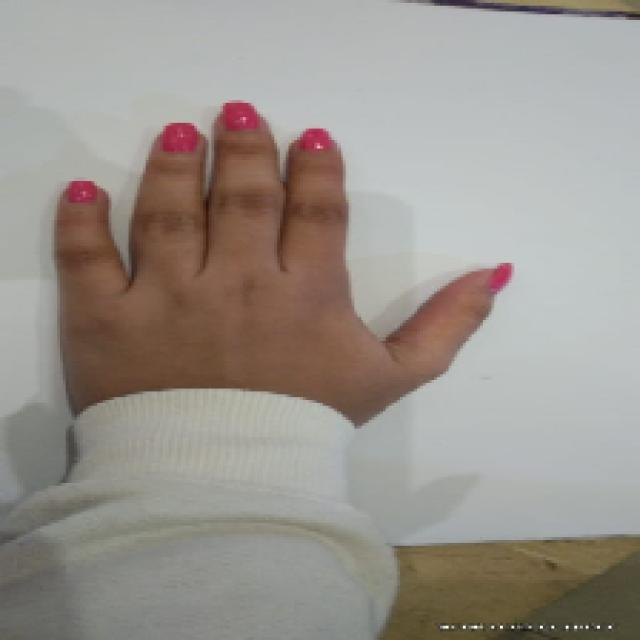Nail: (222, 100, 261, 131), (161, 122, 199, 152), (299, 128, 332, 151), (66, 180, 98, 203), (490, 262, 513, 294)
